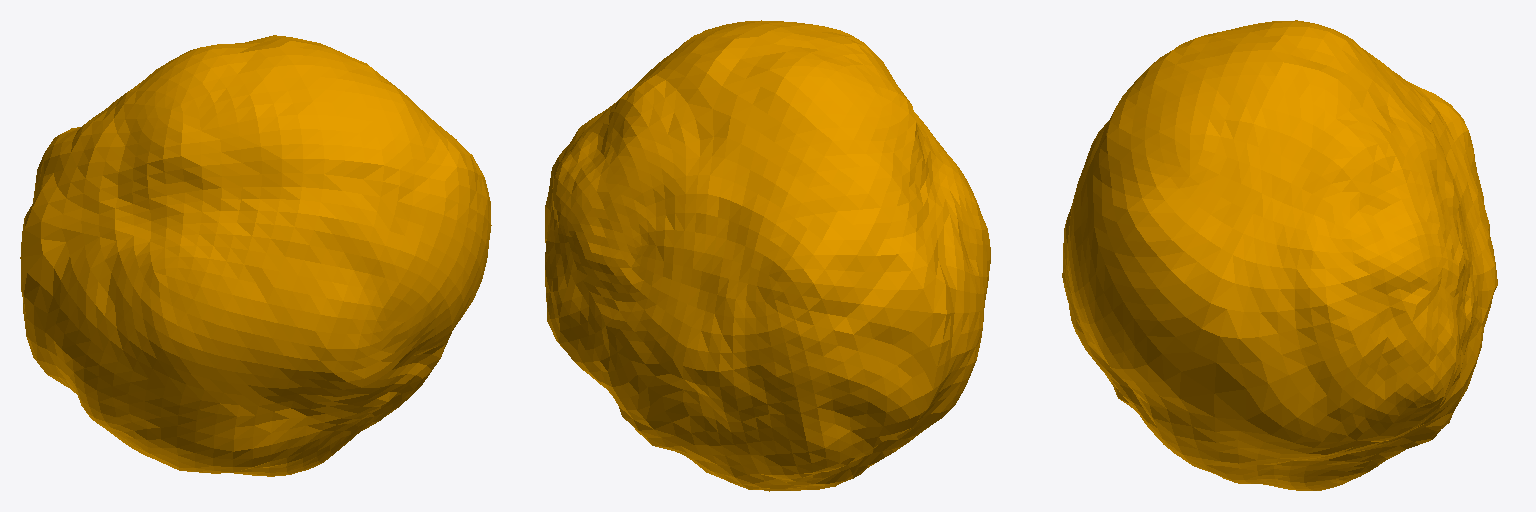
URDF robot description (rock):
<?xml version="1.0" ?>
<robot name="rock">
  <link name="rock">
    <inertial>
      <mass value="0.323"/>
      <origin rpy="0 0 0" xyz="0 0 0"/>
      <inertia ixx="0.000323" ixy="0" ixz="0" iyy="0.000323" iyz="0" izz="0.000323"/>
    </inertial>
    <collision name="rock_collision">
      <origin rpy="0 0 0" xyz="0 0 0"/>
      <geometry>
        <mesh filename="package://rocks/visual/106.dae" scale="1 1 1"/>
      </geometry>
    </collision>
    <visual name="rock_visual">
      <origin rpy="0 0 0" xyz="0 0 0"/>
      <geometry>
        <mesh filename="package://rocks/visual/106.dae" scale="1 1 1"/>
      </geometry>
    </visual>
  </link>
</robot>

--- What the picture shows (computed from the rendered views, not written in the file) ---
Views: 3 orthographic renders of the robot side by side, from view 1: azimuth 30°, elevation 25°; view 2: azimuth 150°, elevation 25°; view 3: azimuth 270°, elevation 25°.
Robot: rock — 1 links, 0 joints (none); root link rock; default pose: all joints at 0.
Links seen in each view (by area): view 1: rock; view 2: rock; view 3: rock.
Boxes of the visible links, x1=… form: rock: x1=20, y1=35, x2=491, y2=476; rock: x1=545, y1=20, x2=990, y2=491; rock: x1=1062, y1=20, x2=1497, y2=490.
Size in the robot's own frame: 0.1031 by 0.0918 by 0.103 metres.
1 mesh visuals loaded from 1 distinct referenced files (1 Collada DAE).